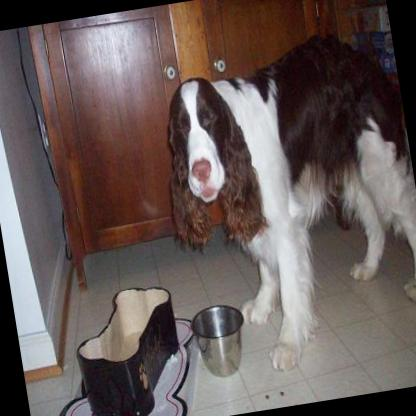English_springer: (146, 20, 416, 384)
